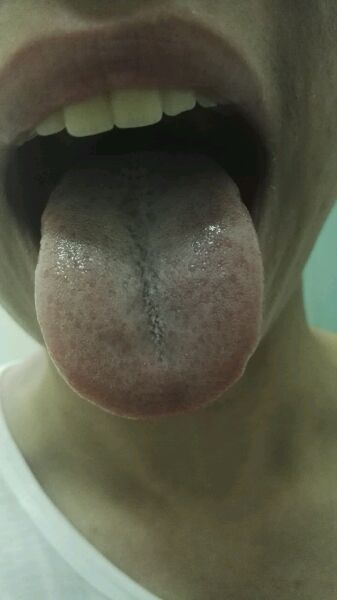baitaishe: (33, 153, 264, 421)
liewenshe: (122, 224, 167, 359)
